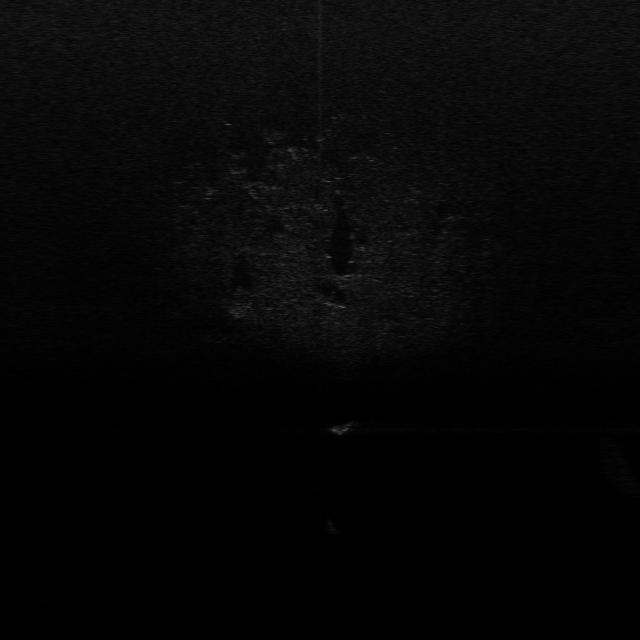square cage: (327, 416, 358, 438)
